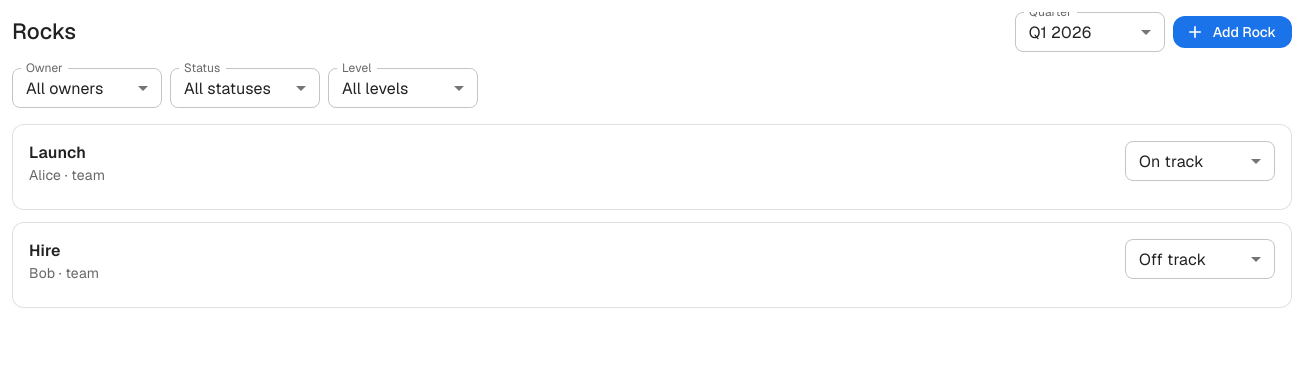
it: RocksView › rolls back + surfaces an error when the status save fails
This screenshot has width=1304, height=389.
Click the dropdown labelled "On track": (1171, 161) [1139, 150, 1204, 172]
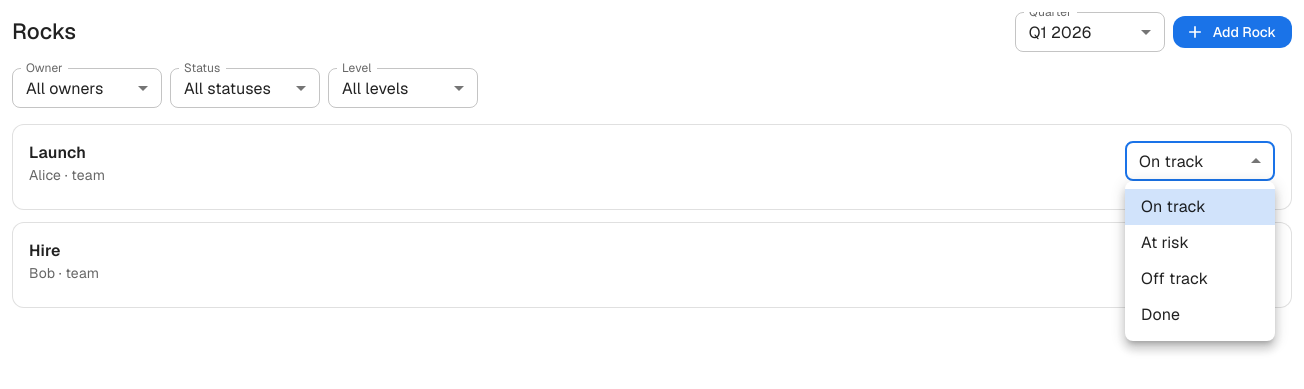
Click the option "Done": (1160, 314) [1141, 304, 1180, 325]
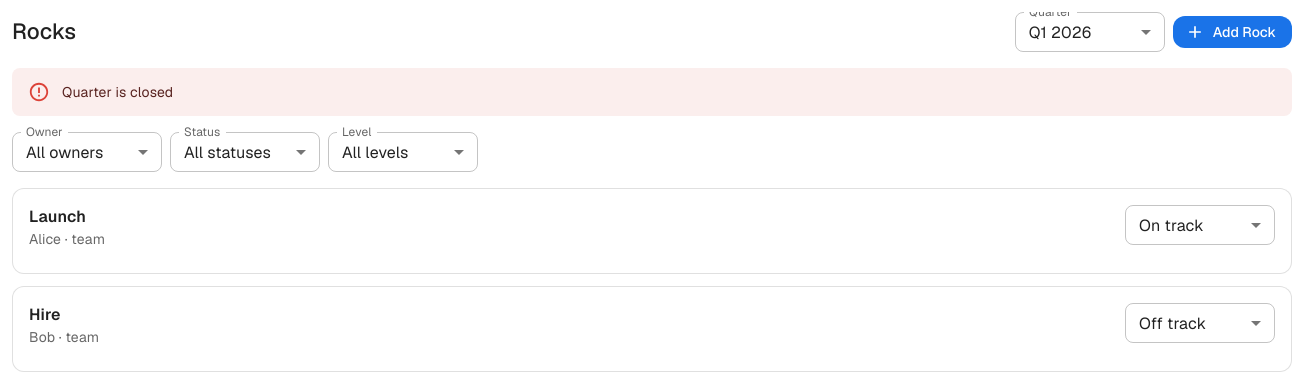
Expected: the text "Quarter is closed" is shown, [62, 83, 173, 101]
